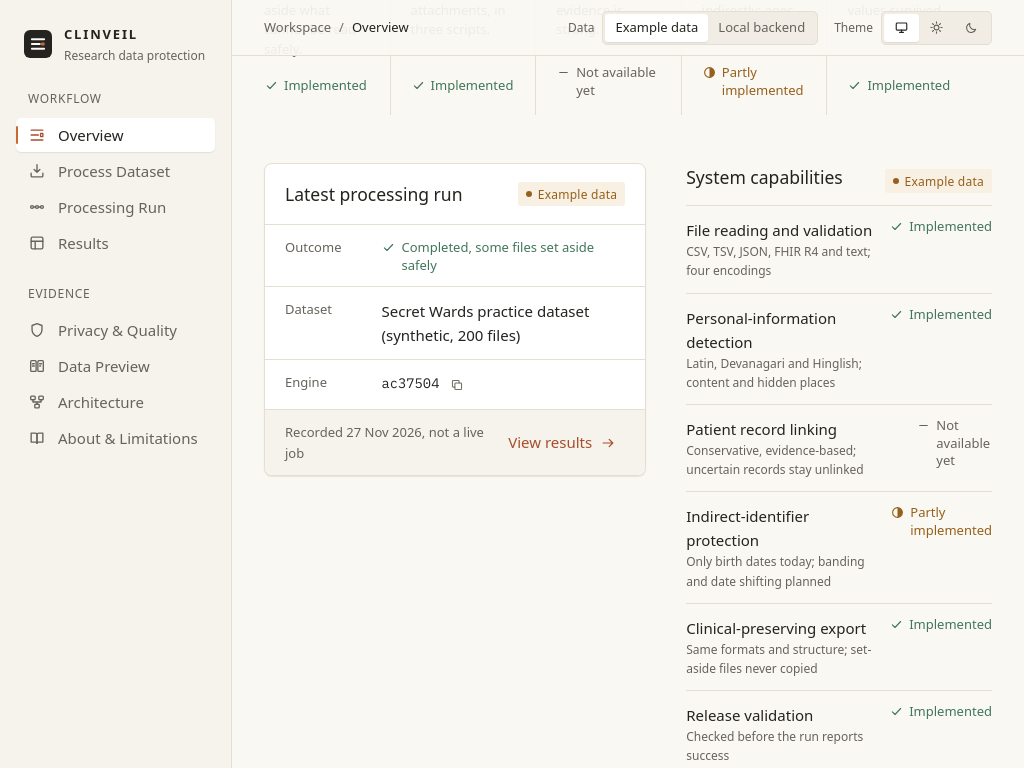
Test: professional details › copy buttons copy the full value, not the shortened one
(page scrolled)
Click the button named "Copy engine commit". click: (455,385)
box: left=443, top=373, right=467, bottom=397
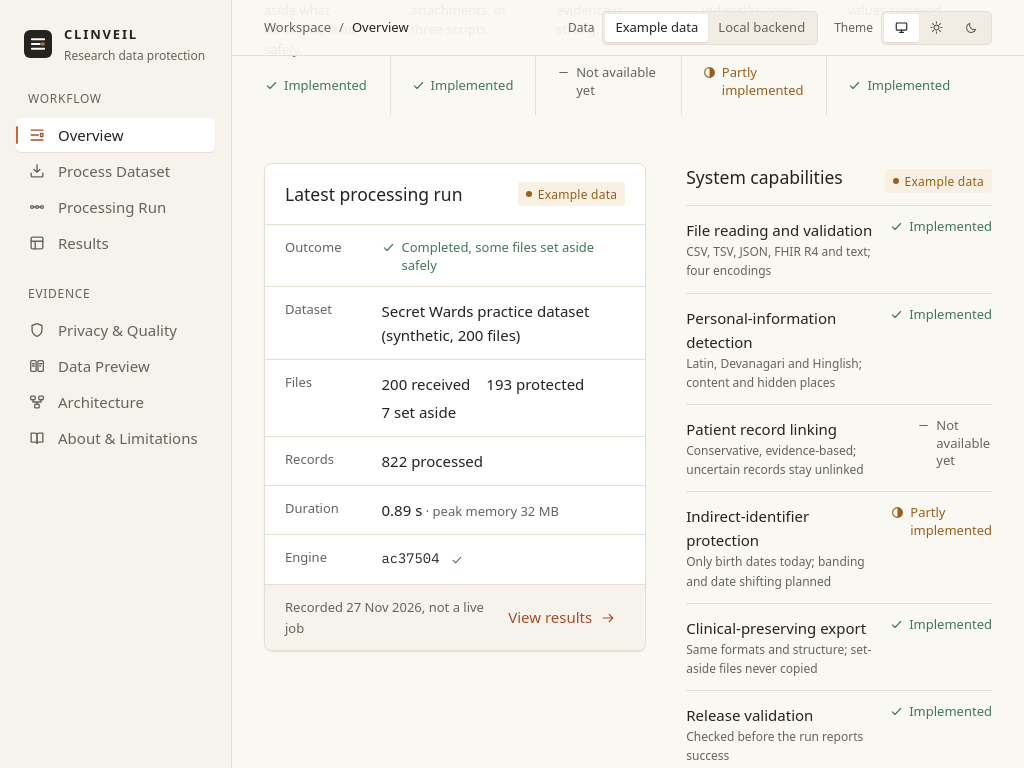
Result: the button named "engine commit copied" is shown at left=443, top=548, right=467, bottom=572
